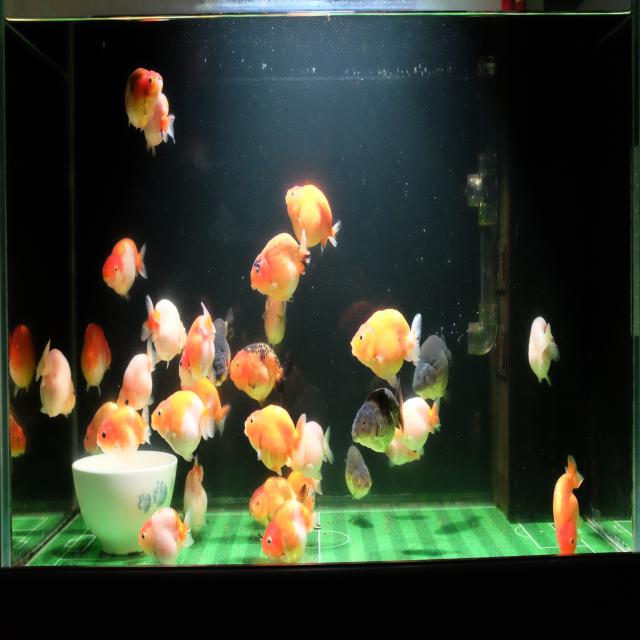Goldfish: (349, 304, 424, 394), (149, 388, 220, 464), (260, 484, 322, 566), (348, 374, 404, 458), (248, 229, 310, 303), (243, 406, 308, 476), (227, 341, 295, 406), (284, 182, 339, 255), (95, 399, 151, 466), (34, 337, 76, 426), (551, 449, 585, 558), (140, 294, 187, 371), (115, 335, 161, 412), (137, 504, 195, 565), (177, 299, 216, 387), (411, 326, 455, 402), (392, 394, 445, 455), (101, 233, 150, 298), (181, 375, 232, 437), (247, 477, 306, 530), (122, 64, 164, 137), (288, 416, 335, 478), (139, 87, 176, 156), (79, 320, 112, 397), (528, 314, 561, 388), (206, 304, 235, 386), (182, 454, 210, 536), (79, 396, 116, 456), (9, 317, 35, 397), (260, 281, 288, 351), (344, 443, 374, 505), (385, 428, 422, 473), (10, 408, 30, 464)
